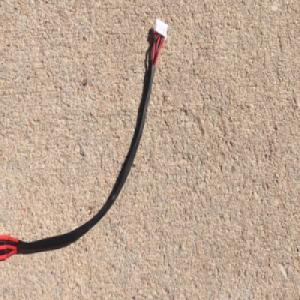Wire: (0, 17, 171, 270)
